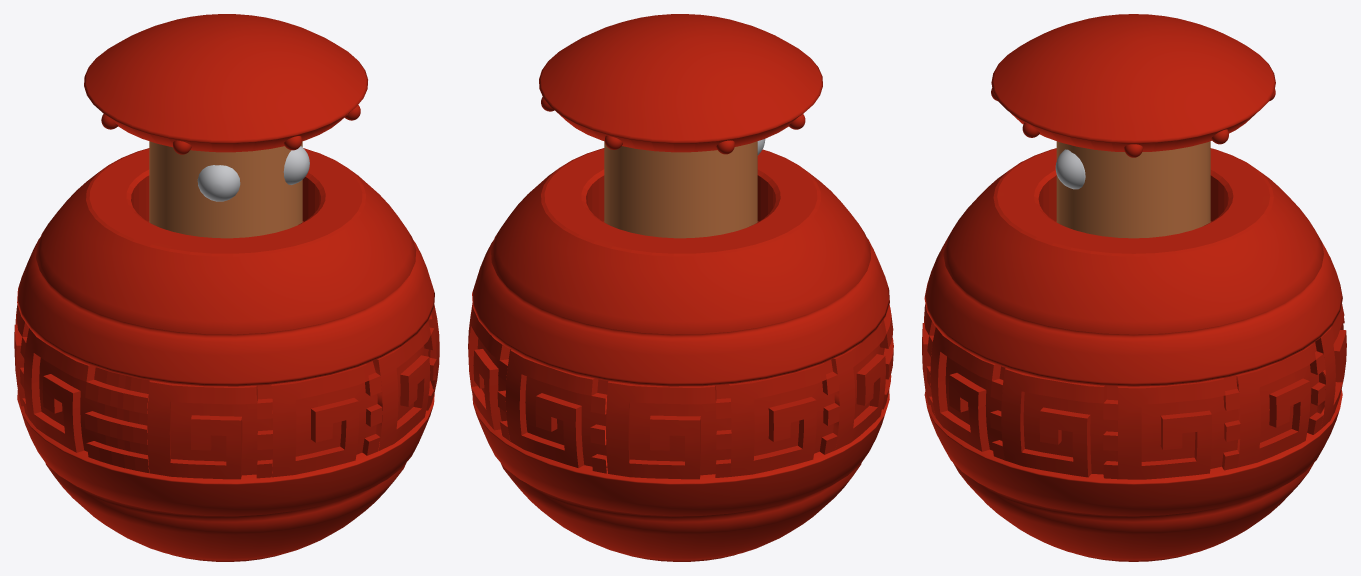
The model's file is popHead.fbx.
3 renders of one model, left to right at view 1: azimuth 30°, elevation 25°; view 2: azimuth 150°, elevation 25°; view 3: azimuth 270°, elevation 25°, orthographic.
Visible parts, largest first — view 1: polySurface15, polySurface16, polySurface14, polySurface13, polySurface10, polySurface1, polySurface12, polySurface2, polySurface9, polySurface3, polySurface11, polySurface5; view 2: polySurface15, polySurface16, polySurface14, polySurface1, polySurface6, polySurface9, polySurface7, polySurface12, polySurface4; view 3: polySurface15, polySurface16, polySurface14, polySurface1, polySurface8, polySurface5, polySurface4, polySurface13, polySurface7, polySurface3.
Boxes of the visible parts, bbox=[...] form: polySurface15: bbox=[17, 148, 434, 386]; polySurface16: bbox=[84, 14, 367, 152]; polySurface14: bbox=[17, 359, 434, 561]; polySurface13: bbox=[270, 321, 436, 477]; polySurface10: bbox=[147, 380, 272, 479]; polySurface1: bbox=[149, 141, 302, 238]; polySurface12: bbox=[23, 328, 149, 472]; polySurface2: bbox=[197, 165, 240, 201]; polySurface9: bbox=[14, 304, 28, 418]; polySurface3: bbox=[283, 146, 309, 184]; polySurface11: bbox=[110, 375, 131, 468]; polySurface5: bbox=[428, 305, 439, 403]; polySurface15: bbox=[472, 148, 889, 386]; polySurface16: bbox=[539, 14, 822, 152]; polySurface14: bbox=[472, 358, 889, 561]; polySurface1: bbox=[604, 141, 757, 238]; polySurface6: bbox=[606, 381, 731, 479]; polySurface9: bbox=[729, 359, 839, 476]; polySurface7: bbox=[505, 350, 608, 473]; polySurface12: bbox=[833, 304, 893, 450]; polySurface4: bbox=[468, 306, 510, 441]; polySurface15: bbox=[924, 148, 1342, 386]; polySurface16: bbox=[991, 14, 1275, 151]; polySurface14: bbox=[924, 370, 1342, 561]; polySurface1: bbox=[1056, 141, 1210, 238]; polySurface8: bbox=[1117, 375, 1240, 479]; polySurface5: bbox=[1001, 368, 1118, 479]; polySurface4: bbox=[1236, 342, 1325, 467]; polySurface13: bbox=[922, 304, 1005, 460]; polySurface7: bbox=[1321, 304, 1346, 428]; polySurface3: bbox=[1055, 149, 1085, 189].
Size of the model in its own units: 1.98 by 2.6 by 1.97.
